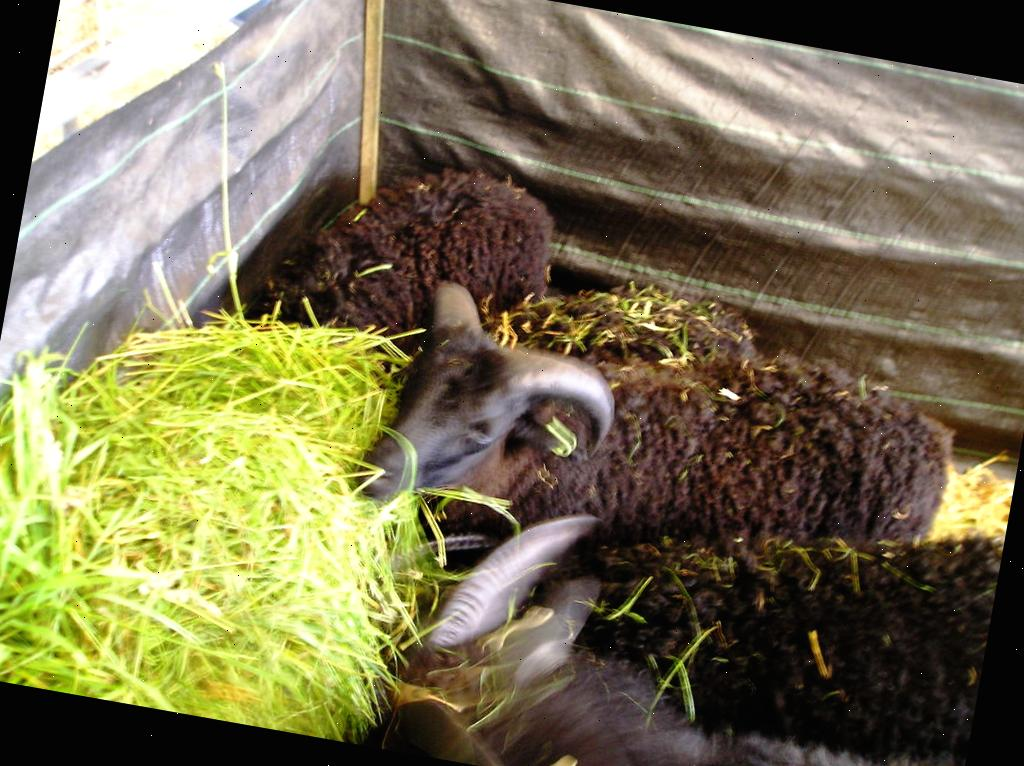Sheep: (344, 266, 964, 646), (402, 435, 1005, 766), (518, 462, 1004, 766), (244, 145, 566, 383), (408, 246, 760, 412)
